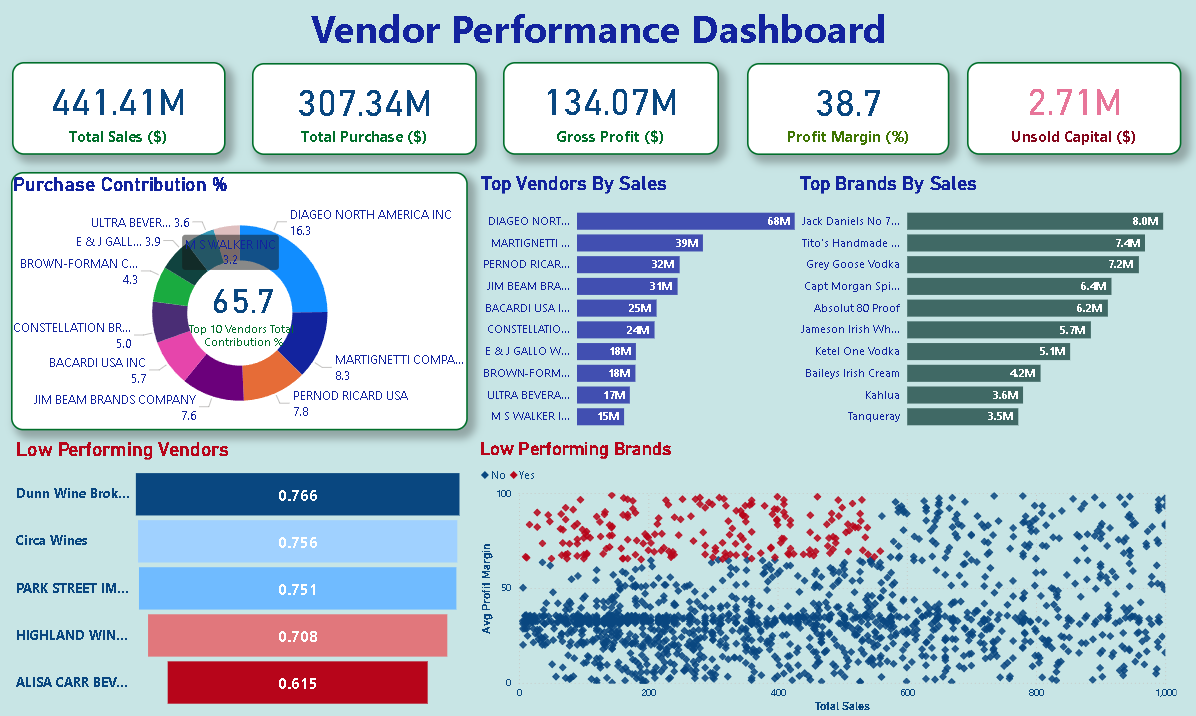

What the dashboard file says about the page in this screenshot:
{"tool":"powerbi","page":{"name":"Page 1","canvas":[1500,900],"ordinal":0},"visuals":[{"type":"card","fields":{"Values":["Sum(vendor_sales_summary.TotalPurchaseDollars)"]},"box":[315.8,82.4,280.9,114.6],"z":0},{"type":"card","fields":{"Values":["Sum(vendor_sales_summary.TotalSalesDollars)"]},"box":[16.8,81,266.9,116],"z":1000},{"type":"card","fields":{"Values":["Sum(vendor_sales_summary.GrossProfit)"]},"box":[630.2,81,269.7,116],"z":2000},{"type":"card","fields":{"Values":["Sum(vendor_sales_summary.ProfitMargin)"]},"box":[934.8,82.4,252.9,114.6],"z":3000},{"type":"card","fields":{"Values":["Sum(vendor_sales_summary.UnsoldCapital)"]},"box":[1210.1,81,268.3,116],"z":4000},{"type":"textbox","box":[0,0,1500,83],"z":5000},{"type":"donutChart","title":"Purchase Contribution % ","fields":{"Category":["PurchaseContribution.VendorName"],"Y":["Sum(PurchaseContribution.PurchaseContribution%)"]},"box":[14.5,219.4,571,322.6],"z":6000},{"type":"card","fields":{"Values":["Sum(PurchaseContribution.PurchaseContribution%)"]},"box":[211.8,266.7,188.2,233.3],"z":7000},{"type":"barChart","title":"Top Vendors By Sales","fields":{"Category":["vendor_sales_summary.VendorName"],"Y":["Sum(vendor_sales_summary.TotalSalesDollars)"]},"box":[597.3,219.2,447.9,332.9],"z":8000},{"type":"barChart","title":"Top Brands By Sales","fields":{"Category":["vendor_sales_summary.Description"],"Y":["Sum(vendor_sales_summary.TotalSalesDollars)"]},"box":[995.9,219.2,504.1,332.9],"z":9000},{"type":"funnel","title":"Low Performing Vendors","fields":{"Category":["LowTurnoverVendor.VendorName"],"Y":["Avg(LowTurnoverVendor.AvgStockTurnOver)"]},"box":[16.1,551.6,569.4,348.4],"z":10000},{"type":"scatterChart","title":"Low Performing Brands","fields":{"X":["Sum(BrandPerformance.TotalSales)"],"Y":["Sum(BrandPerformance.AvgProfitMargin)"],"Series":["BrandPerformance.TargetBrand"],"Category":["BrandPerformance.Description"]},"box":[596.8,551.6,880.6,348.4],"z":11000}]}

Visuals, with their boxes in screenshot pixels (x1, y1, x2, y2), scaled from the page's 1500x900 canvas onto the 1196x716 screenshot:
card - Sum(vendor_sales_summary.TotalPurchaseDollars): bbox=(252, 66, 476, 157)
card - Sum(vendor_sales_summary.TotalSalesDollars): bbox=(13, 64, 226, 157)
card - Sum(vendor_sales_summary.GrossProfit): bbox=(502, 64, 718, 157)
card - Sum(vendor_sales_summary.ProfitMargin): bbox=(745, 66, 947, 157)
card - Sum(vendor_sales_summary.UnsoldCapital): bbox=(965, 64, 1179, 157)
textbox: bbox=(0, 0, 1195, 66)
"Purchase Contribution % " donutChart: bbox=(12, 175, 467, 431)
card - Sum(PurchaseContribution.PurchaseContribution%): bbox=(169, 212, 319, 398)
"Top Vendors By Sales" barChart: bbox=(476, 174, 833, 439)
"Top Brands By Sales" barChart: bbox=(794, 174, 1195, 439)
"Low Performing Vendors" funnel: bbox=(13, 439, 467, 715)
"Low Performing Brands" scatterChart: bbox=(476, 439, 1178, 715)
